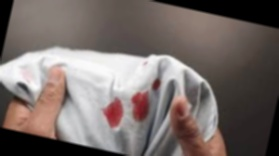blood: (99, 95, 128, 128), (127, 89, 154, 123)
